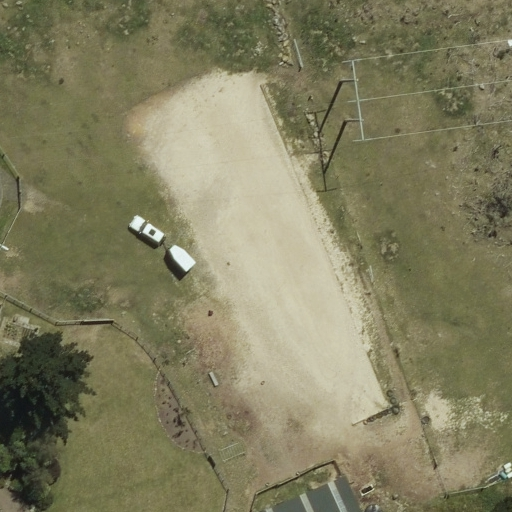DT: (325, 50, 394, 151)
